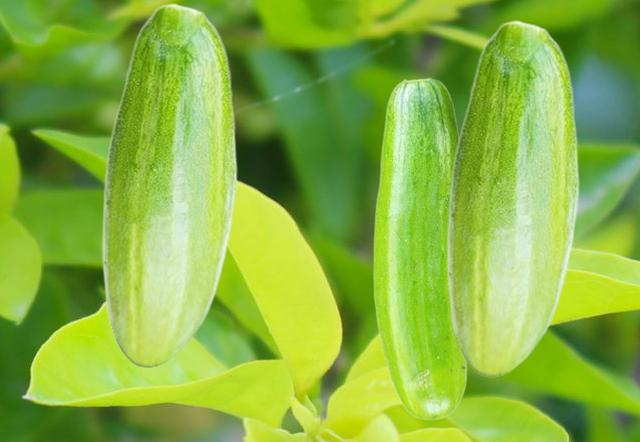cucumber: (101, 3, 236, 367), (446, 20, 578, 376), (373, 77, 466, 419)
